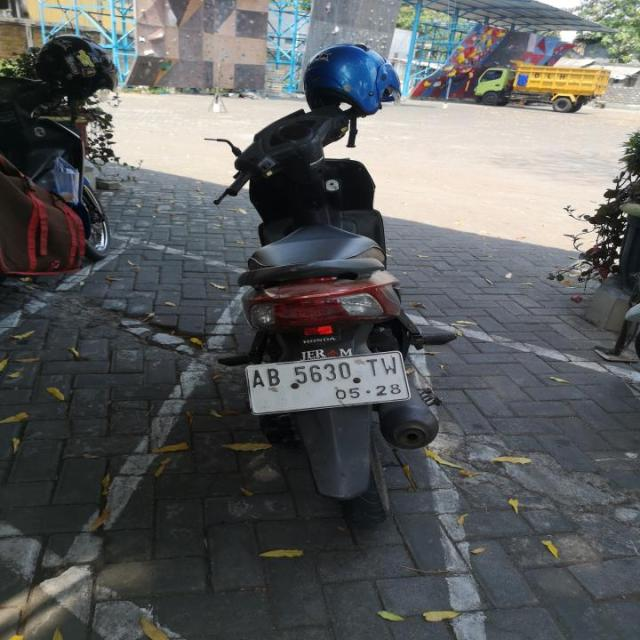License Plate: (243, 346, 416, 419)
